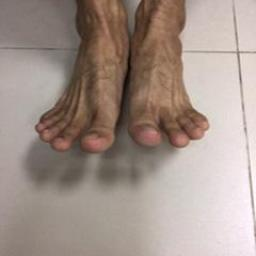Front View -Both Feet-: (24, 2, 221, 165)
